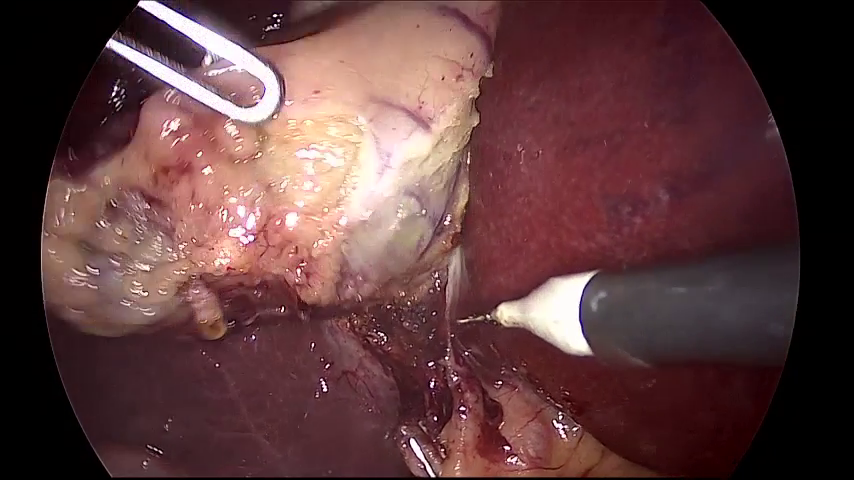grasper: (102, 1, 283, 119)
lhook: (457, 230, 800, 366)
